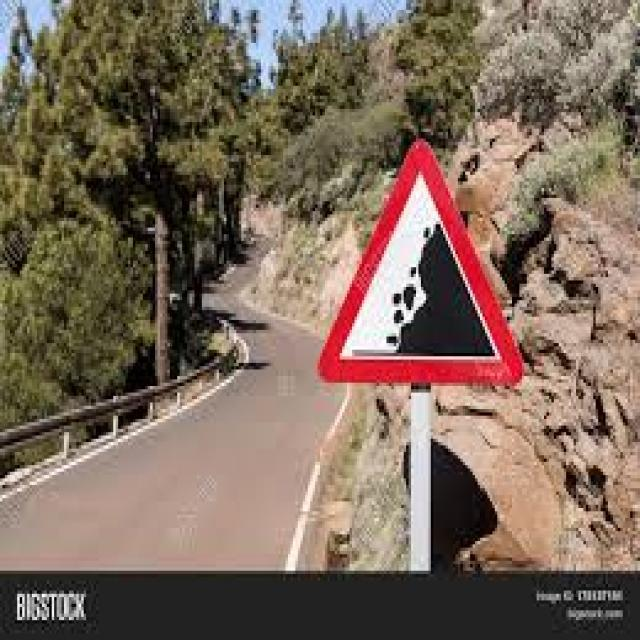falling rocks: (314, 130, 528, 396)
